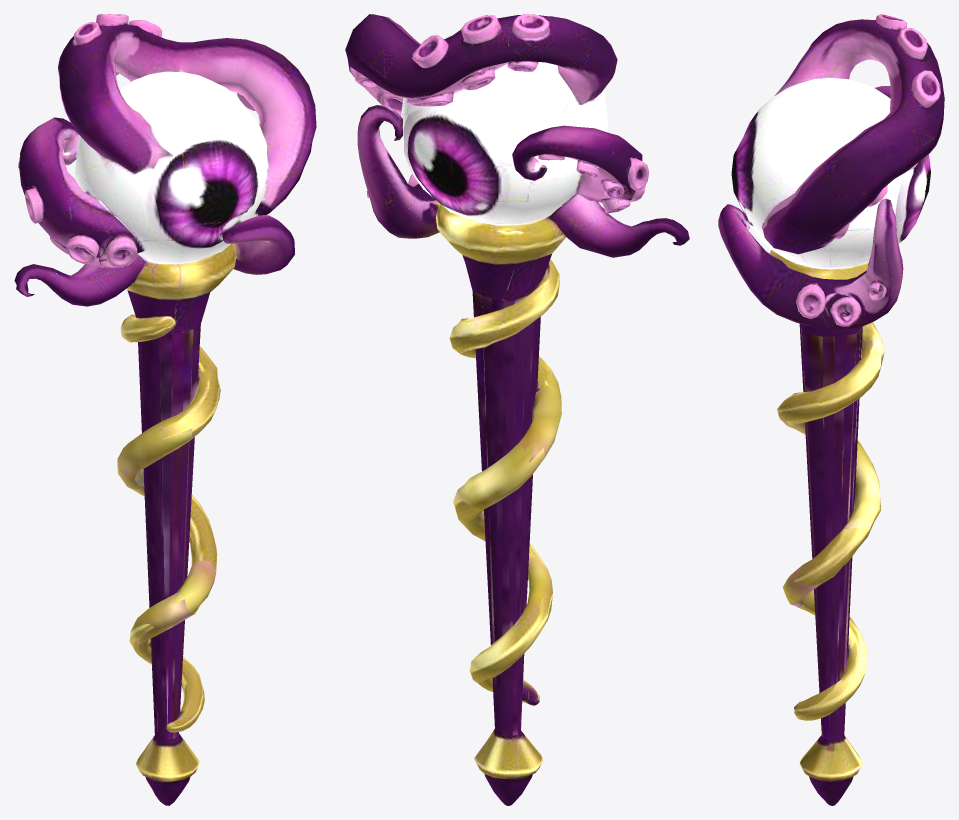
The model's file is staff_eye.glb.
3 renders of one model, left to right at view 1: azimuth 30°, elevation 25°; view 2: azimuth 150°, elevation 25°; view 3: azimuth 270°, elevation 25°, orthographic. The views are drawn at different scales.
Parts seen in each view (by area): view 1: staff_eye; view 2: staff_eye; view 3: staff_eye.
Part boxes in pixels (x1,y1,x2,y2): staff_eye: (14, 14, 316, 805); staff_eye: (345, 14, 689, 805); staff_eye: (718, 14, 944, 805).
Bounding box in the file's own units: 0.4093 × 1 × 0.2676.
Materials: 1 (1 with a texture image).
